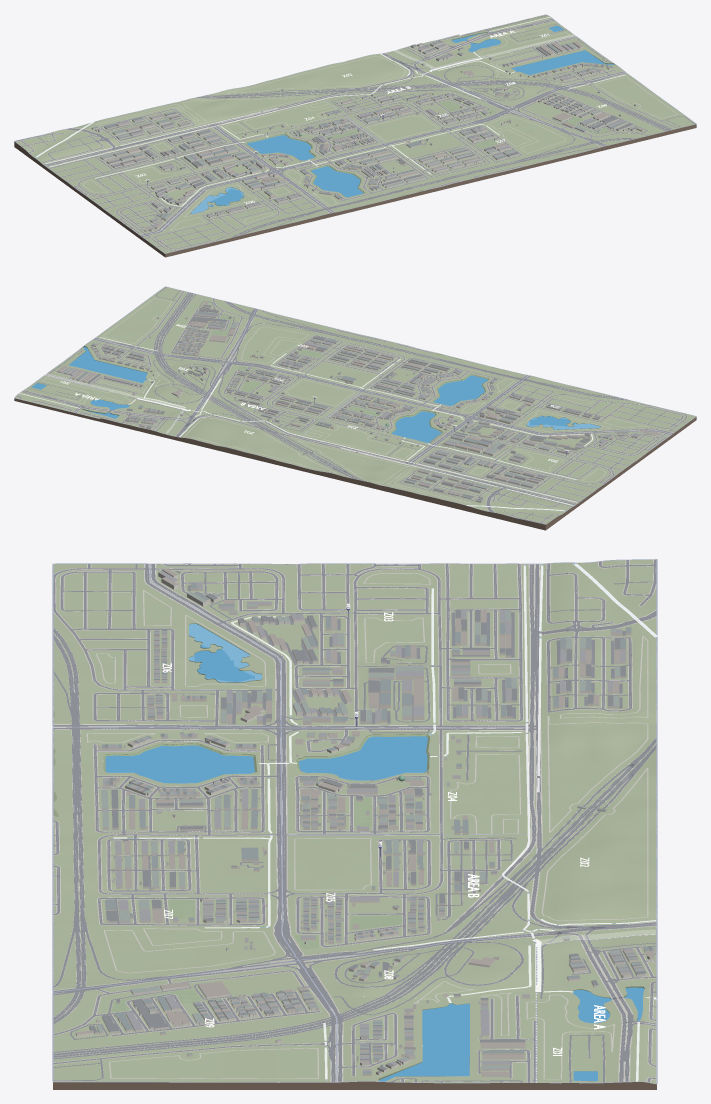
File: township.glb
3 renders of one model, top to bottom at view 1: azimuth 30°, elevation 25°; view 2: azimuth 150°, elevation 25°; view 3: azimuth 270°, elevation 25°, orthographic. The views are drawn at different scales.
Parts seen in each view (by area): view 1: terrain_cop30, town_roads, ground_sketch_fill, town_walks, zone_Z02, zone_Z07, zone_Z03, zone_Z06, zone_Z09, zone_Z05, zone_Z08, zone_Z04 (+13 smaller); view 2: terrain_cop30, town_roads, ground_sketch_fill, town_walks, zone_Z02, zone_Z07, zone_Z03, zone_Z06, zone_Z09, zone_Z05, zone_Z08, zone_Z04 (+12 smaller); view 3: terrain_cop30, town_roads, ground_sketch_fill, zone_Z02, zone_Z07, zone_Z03, town_walks, zone_Z06, zone_Z09, zone_Z05, zone_Z08, zone_Z04 (+16 smaller).
Boxes of the visible parts, x1,y1,x2,y2 form: terrain_cop30: (16, 35, 582, 234); town_roads: (15, 15, 694, 250); ground_sketch_fill: (143, 14, 695, 253); town_walks: (16, 15, 677, 250); zone_Z02: (16, 51, 430, 166); zone_Z07: (277, 111, 601, 211); zone_Z03: (50, 127, 273, 235); zone_Z06: (142, 172, 331, 252); zone_Z09: (512, 73, 694, 145); zone_Z05: (325, 74, 507, 143); zone_Z08: (427, 37, 623, 108); zone_Z04: (217, 100, 383, 170); terrain_cop30: (102, 325, 669, 523); town_roads: (16, 287, 686, 524); ground_sketch_fill: (15, 286, 695, 432); town_walks: (16, 291, 687, 523); zone_Z02: (168, 411, 576, 523); zone_Z07: (230, 309, 526, 416); zone_Z03: (412, 418, 670, 501); zone_Z06: (474, 376, 694, 433); zone_Z09: (96, 287, 255, 361); zone_Z05: (198, 363, 360, 434); zone_Z08: (48, 339, 227, 410); zone_Z04: (302, 391, 470, 461); terrain_cop30: (146, 559, 656, 998); town_roads: (53, 559, 656, 1082); ground_sketch_fill: (53, 564, 656, 1084); zone_Z02: (505, 560, 656, 939); zone_Z07: (53, 728, 296, 991); zone_Z03: (151, 564, 525, 727); town_walks: (53, 559, 656, 1082); zone_Z06: (53, 564, 280, 726); zone_Z09: (54, 961, 335, 1081); zone_Z05: (282, 835, 530, 959); zone_Z08: (301, 936, 535, 1082); zone_Z04: (282, 728, 526, 833).
Size of the model in its own units: 2925 by 66.5 by 1443.
